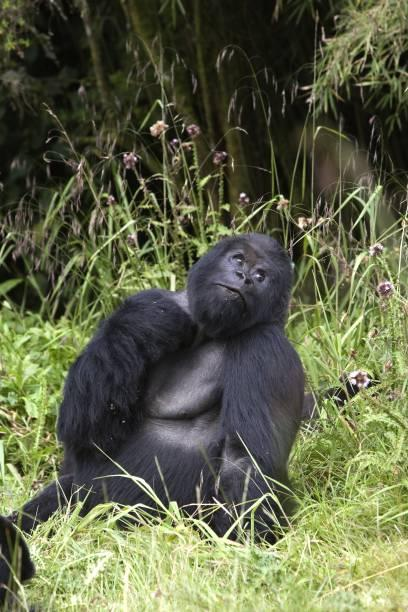goriile_montagne: (48, 229, 326, 526)
